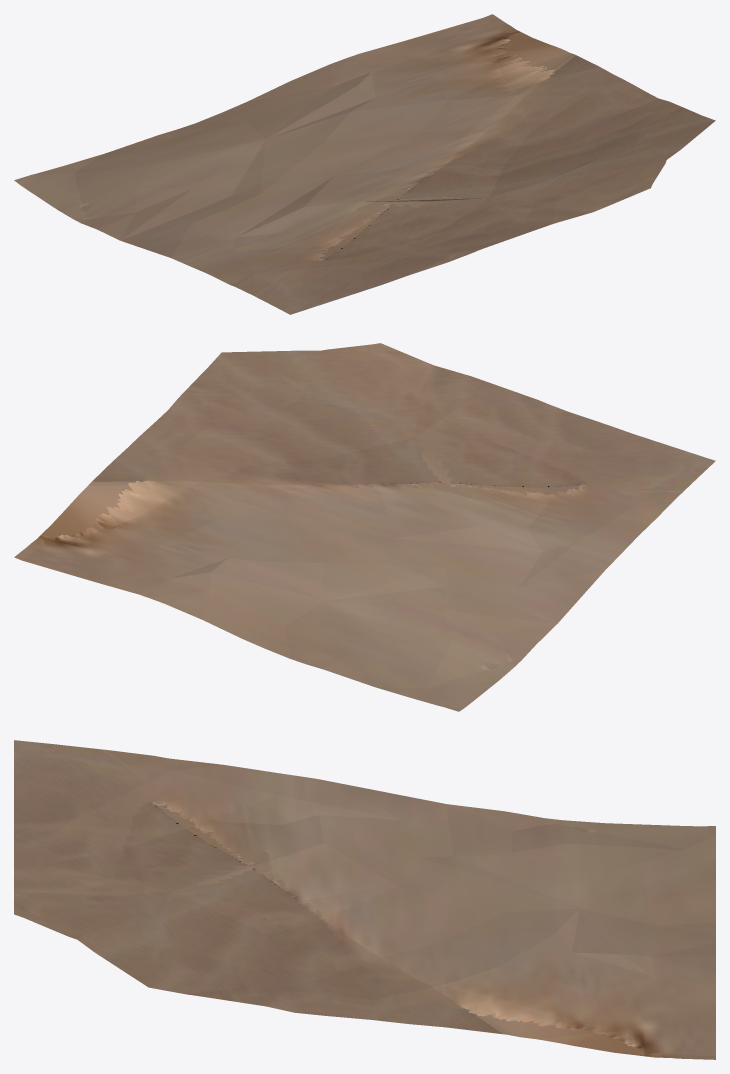
3 views of the same model, one above another, from view 1: azimuth 30°, elevation 25°; view 2: azimuth 150°, elevation 25°; view 3: azimuth 270°, elevation 25° (orthographic). The views are drawn at different scales.
Size of the model in its own units: 1.04 by 0.2224 by 1.04.
Materials: 2 (2 with a texture image).
